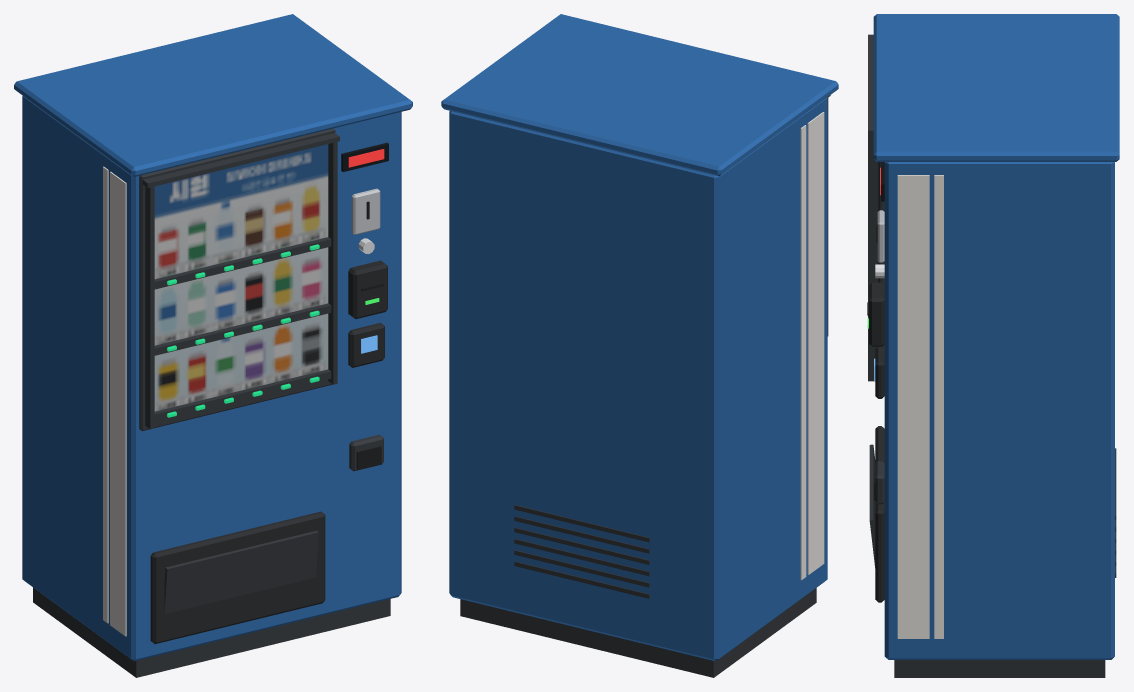
The model's file is SC_Str_Vending_Machine_Drinks_Blue.gltf.
3 views of the same model, side by side, from view 1: azimuth 30°, elevation 25°; view 2: azimuth 150°, elevation 25°; view 3: azimuth 270°, elevation 25° (orthographic). The views are drawn at different scales.
Parts seen in each view (by area): view 1: SC_Str_Vending_Machine_Drinks_Blue; view 2: SC_Str_Vending_Machine_Drinks_Blue; view 3: SC_Str_Vending_Machine_Drinks_Blue.
Boxes of the visible parts, bbox=[...] form: SC_Str_Vending_Machine_Drinks_Blue: bbox=[14, 14, 412, 677]; SC_Str_Vending_Machine_Drinks_Blue: bbox=[441, 14, 838, 677]; SC_Str_Vending_Machine_Drinks_Blue: bbox=[867, 14, 1119, 677].
Size of the model in its own units: 1.04 by 1.84 by 0.79.
3 materials, 3 textured.
